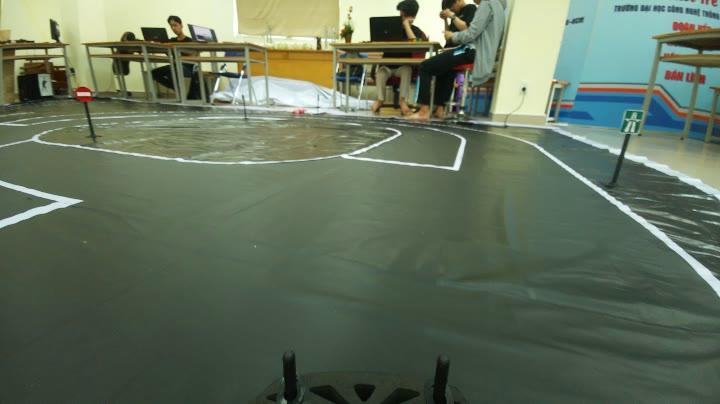highway_entry: (618, 104, 646, 141)
no_entry: (74, 85, 94, 102)
